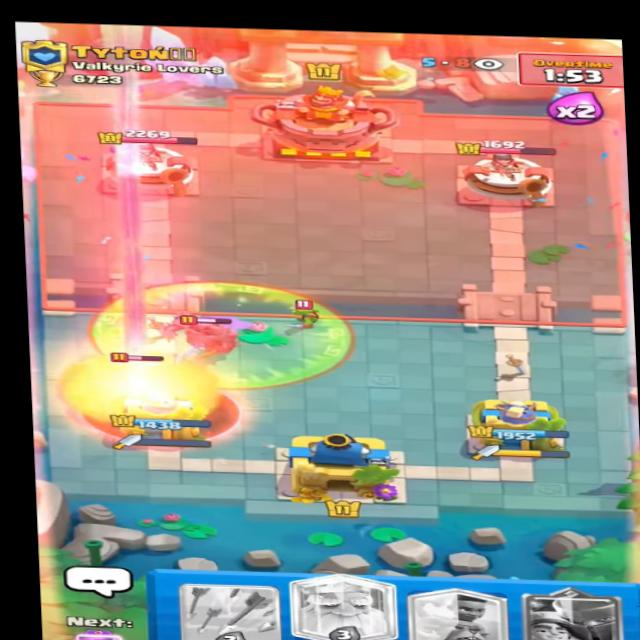goblin: (276, 295, 329, 331)
pekka: (151, 311, 256, 360)
void: (81, 274, 352, 391)
